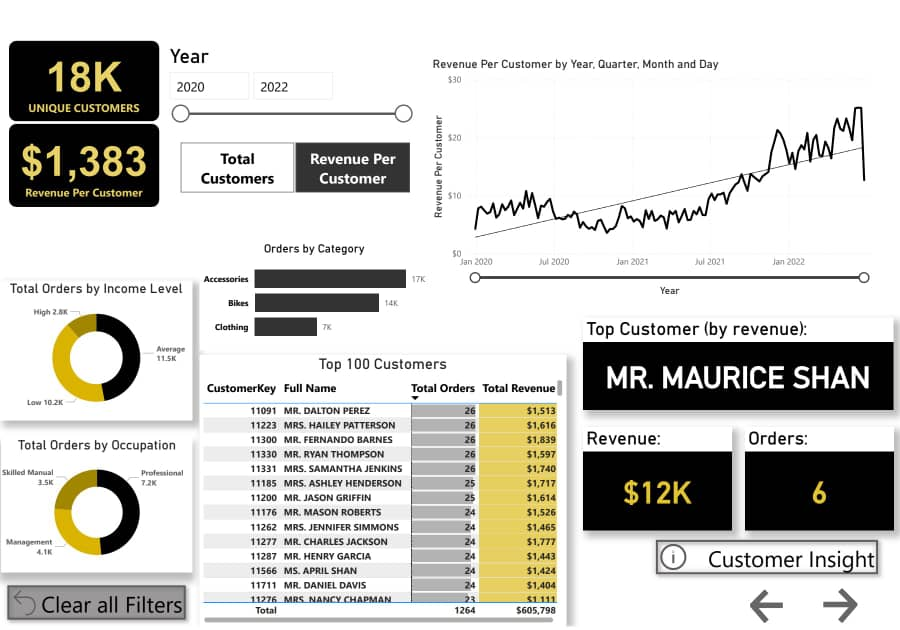

Layout of this report page (visuals, bound fields, positions):
{"tool":"powerbi","page":{"name":"Customer Detail","canvas":[1300,900],"ordinal":1},"visuals":[{"type":"card","fields":{"Values":["Calculated Measure.Total Customers"]},"box":[13.1,54.1,216.6,115.8],"z":0},{"type":"card","fields":{"Values":["Calculated Measure.Revenue Per Customer"]},"box":[13.1,173.7,216.6,119.5],"z":1000},{"type":"lineChart","fields":{"Y":["Calculated Measure.Revenue Per Customer"],"Category":["Calendar Lookup.Start of Week.Variation.Date Hierarchy.Year","Calendar Lookup.Start of Week.Variation.Date Hierarchy.Quarter","Calendar Lookup.Start of Week.Variation.Date Hierarchy.Month","Calendar Lookup.Start of Week.Variation.Date Hierarchy.Day"]},"box":[619.9,76.6,657.3,351],"z":2000},{"type":"donutChart","fields":{"Y":["Calculated Measure.Total Orders"],"Category":["Customer Lookup.Income Level"]},"box":[0,399.6,278.2,201.7],"z":3000},{"type":"donutChart","fields":{"Y":["Calculated Measure.Total Orders"],"Category":["Customer Lookup.Occupation"]},"box":[1.9,625.5,276.3,196.1],"z":4000},{"type":"tableEx","title":"Top 100 Customers","fields":{"Values":["Customer Lookup.CustomerKey","Customer Lookup.Full Name","Calculated Measure.Total Orders","Calculated Measure.Total Revenue"]},"box":[287.6,507.9,530.3,392.1],"z":5000},{"type":"card","title":"Top Customer (by revenue):","fields":{"Values":["Customer Lookup.Full Name"]},"box":[842.1,453.7,448.1,132.6],"z":6000},{"type":"card","title":"Orders:","fields":{"Values":["Calculated Measure.Total Orders"]},"box":[1075.5,612.4,214.7,149.4],"z":7000},{"type":"card","title":"Revenue:","fields":{"Values":["Calculated Measure.Total Revenue"]},"box":[842.1,612.4,214.7,149.4],"z":8000},{"type":"slicer","fields":{"Values":["Calendar Lookup.Year"]},"box":[231.5,54.1,371.6,239],"z":9000},{"type":"actionButton","box":[939.2,765.6,338,67.2],"z":10000},{"type":"actionButton","box":[2.2,832.4,275.2,67.1],"z":11000},{"type":"slicer","fields":{"Values":["Customer  Metric Selection.Customer  Metric Selection"]},"box":[235.3,194.2,380.9,85.9],"z":12000},{"type":"barChart","title":"Orders by Category","fields":{"Category":["Product Categories Lookup.CategoryName"],"Y":["Calculated Measure.Total Orders"]},"box":[287.6,343.6,332.4,156.8],"z":13000},{"type":"actionButton","box":[1182,840.2,78.4,59.8],"z":14000},{"type":"actionButton","box":[1069.9,842.1,78.4,57.9],"z":15000}]}

Visuals, with their boxes in screenshot pixels (x1, y1, x2, y2), scaled from the page's 1300x900 canvas onto the 900x630 screenshot:
card - Calculated Measure.Total Customers: BBox(9, 38, 159, 119)
card - Calculated Measure.Revenue Per Customer: BBox(9, 122, 159, 205)
lineChart - Calculated Measure.Revenue Per Customer x Calendar Lookup.Start of Week.Variation.Date Hierarchy.Year: BBox(429, 54, 884, 299)
donutChart - Calculated Measure.Total Orders x Customer Lookup.Income Level: BBox(0, 280, 193, 421)
donutChart - Calculated Measure.Total Orders x Customer Lookup.Occupation: BBox(1, 438, 193, 575)
"Top 100 Customers" tableEx: BBox(199, 356, 566, 629)
"Top Customer (by revenue):" card: BBox(583, 318, 893, 410)
"Orders:" card: BBox(745, 429, 893, 533)
"Revenue:" card: BBox(583, 429, 732, 533)
slicer - Calendar Lookup.Year: BBox(160, 38, 418, 205)
actionButton: BBox(650, 536, 884, 583)
actionButton: BBox(2, 583, 192, 629)
slicer - Customer  Metric Selection.Customer  Metric Selection: BBox(163, 136, 427, 196)
"Orders by Category" barChart: BBox(199, 241, 429, 350)
actionButton: BBox(818, 588, 873, 629)
actionButton: BBox(741, 589, 795, 629)
